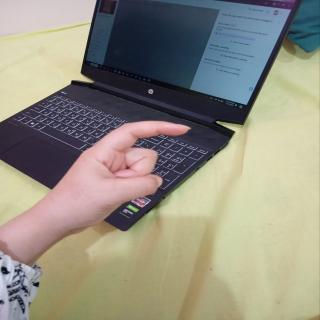RAA: (59, 109, 192, 231)
